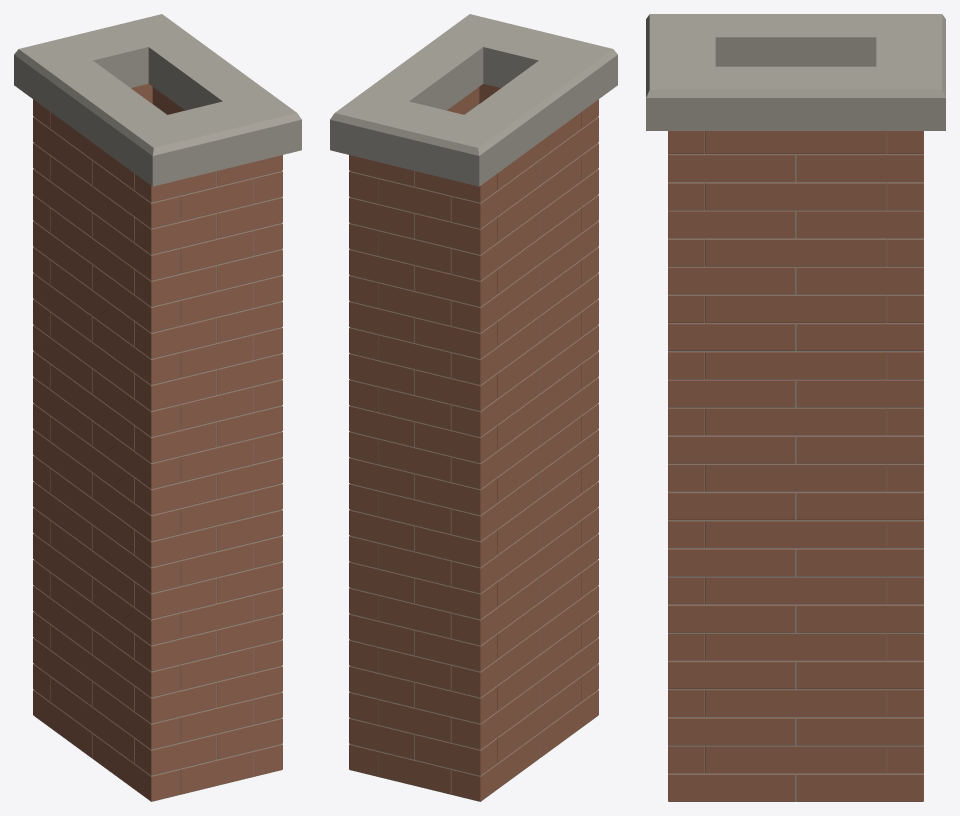
Rendered from chimney_crown.glb.
The picture shows the model from 3 angles, left to right: view 1: azimuth 30°, elevation 25°; view 2: azimuth 150°, elevation 25°; view 3: azimuth 270°, elevation 25°; orthographic projection. The views are drawn at different scales.
Visible parts, largest first — view 1: Brick, Coping, Mortar; view 2: Brick, Coping, Mortar; view 3: Brick, Coping, Mortar.
Boxes of the visible parts, <box> form: Brick: <box>33,84,282,801</box>; Coping: <box>14,14,301,186</box>; Mortar: <box>33,103,282,801</box>; Brick: <box>349,84,598,801</box>; Coping: <box>330,14,617,186</box>; Mortar: <box>349,103,598,801</box>; Brick: <box>668,131,923,801</box>; Coping: <box>646,14,945,130</box>; Mortar: <box>668,131,923,801</box>.
Bounding box in the file's own units: 0.51 × 2.16 × 0.82.
